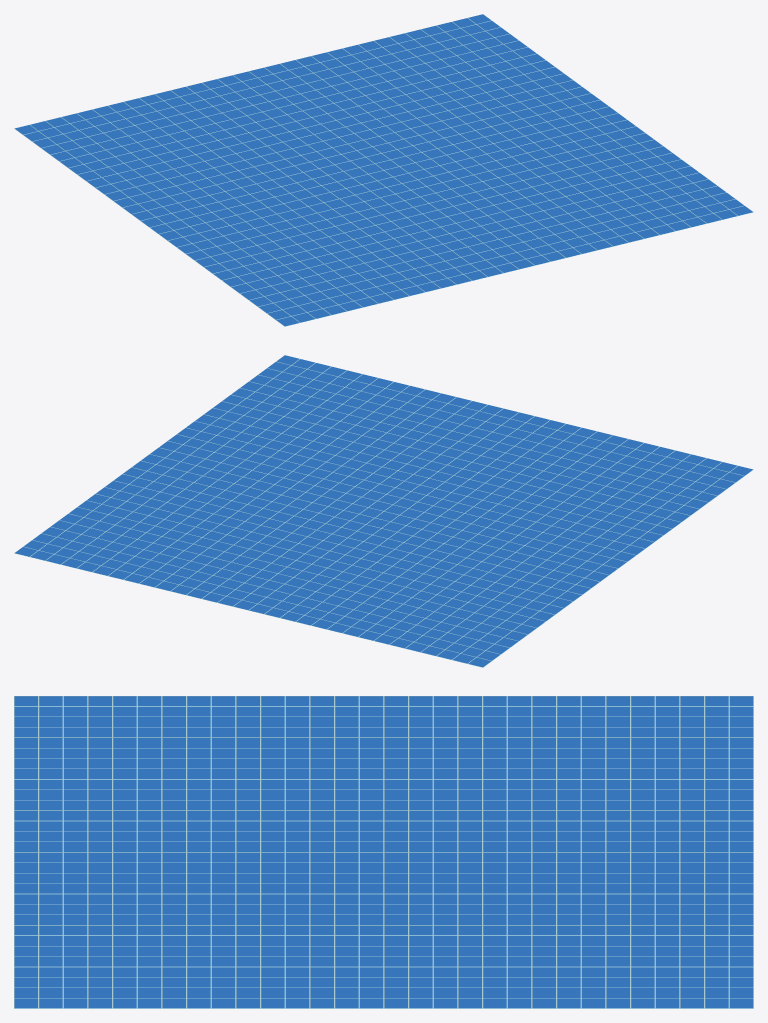
The model's file is tile_blue.dae.
3 views of the same model, one above another, from view 1: azimuth 30°, elevation 25°; view 2: azimuth 150°, elevation 25°; view 3: azimuth 270°, elevation 25° (orthographic). The views are drawn at different scales.
Visible parts, largest first — view 1: Plane; view 2: Plane; view 3: Plane.
Part boxes in pixels (x1=…): Plane: x1=14, y1=14, x2=753, y2=326; Plane: x1=14, y1=355, x2=753, y2=667; Plane: x1=14, y1=696, x2=753, y2=1008.
Size of the model in its own units: 82.73 by 82.73 by 0.0225.
